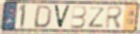1: (19, 4, 28, 29)
B: (70, 5, 87, 30)
D: (32, 4, 53, 29)
R: (104, 6, 124, 30)
V: (53, 4, 72, 30)
Z: (88, 6, 107, 28)
